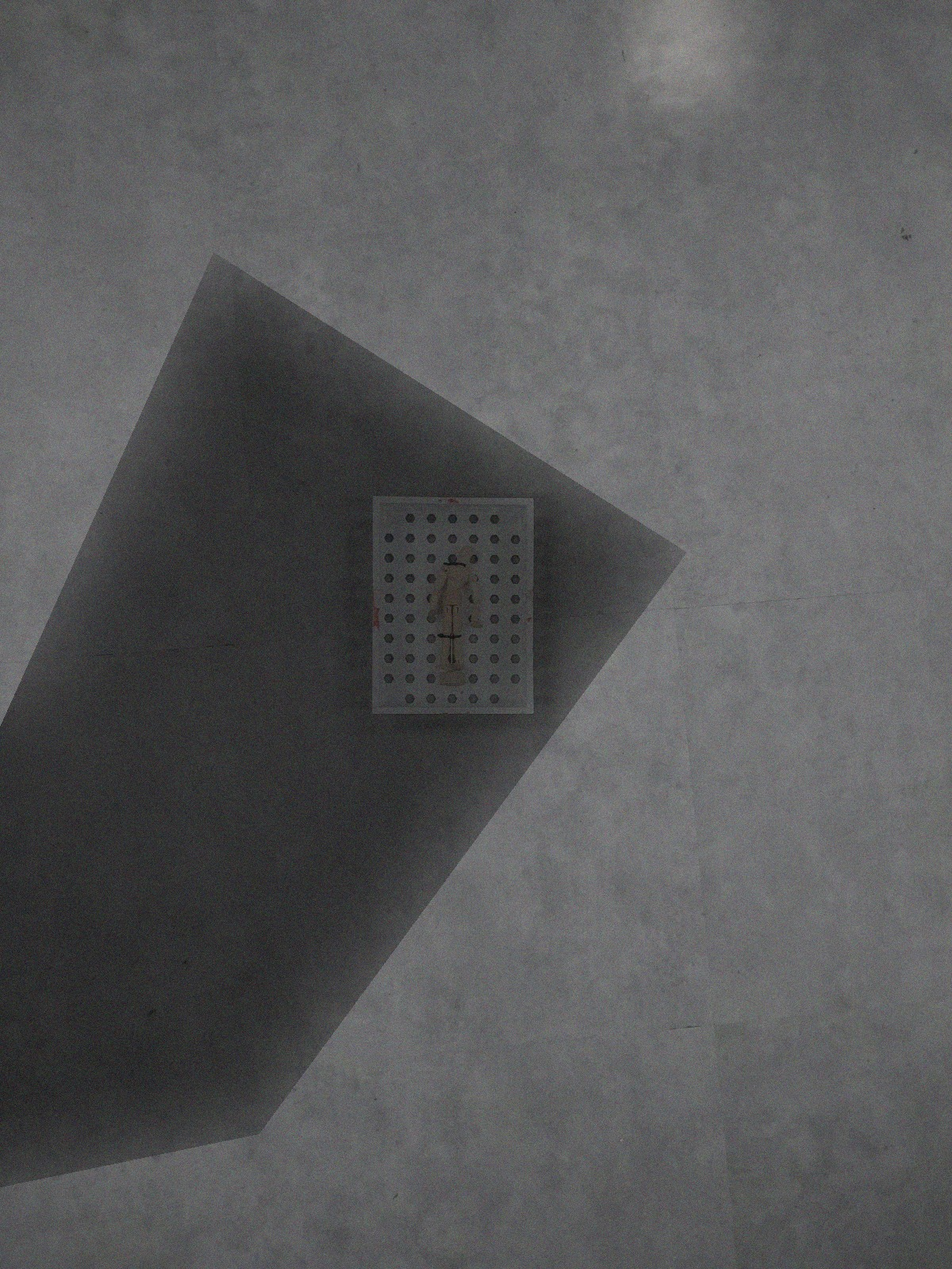basket: (368, 493, 539, 720)
mannequin: (425, 542, 485, 687)
